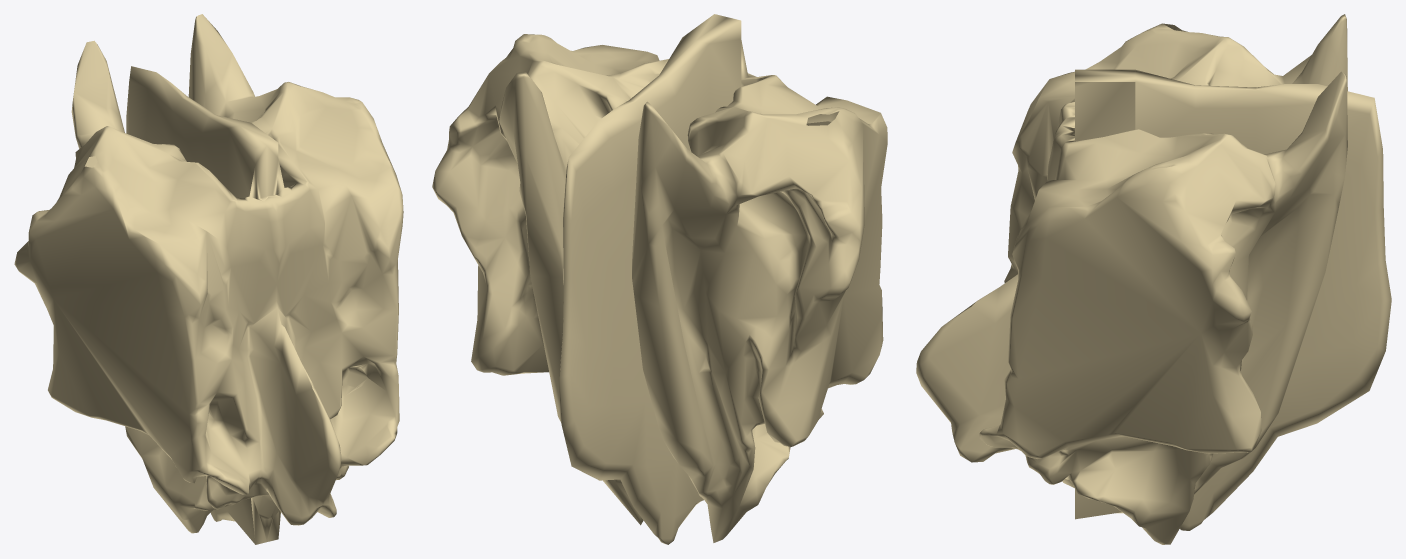
The picture shows the model from 3 angles, left to right: view 1: azimuth 30°, elevation 25°; view 2: azimuth 150°, elevation 25°; view 3: azimuth 270°, elevation 25°; orthographic projection. The views are drawn at different scales.
Visible parts, largest first — view 1: 筛骨; view 2: 筛骨; view 3: 筛骨.
Part boxes in pixels (bbox=[...]): 筛骨: bbox=[14, 14, 403, 544]; 筛骨: bbox=[432, 14, 887, 544]; 筛骨: bbox=[916, 14, 1391, 544].
Bounding box in the file's own units: 0.0552 × 0.0656 × 0.0581.
